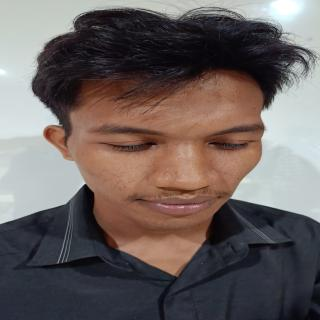Sedih: (56, 63, 279, 237)
